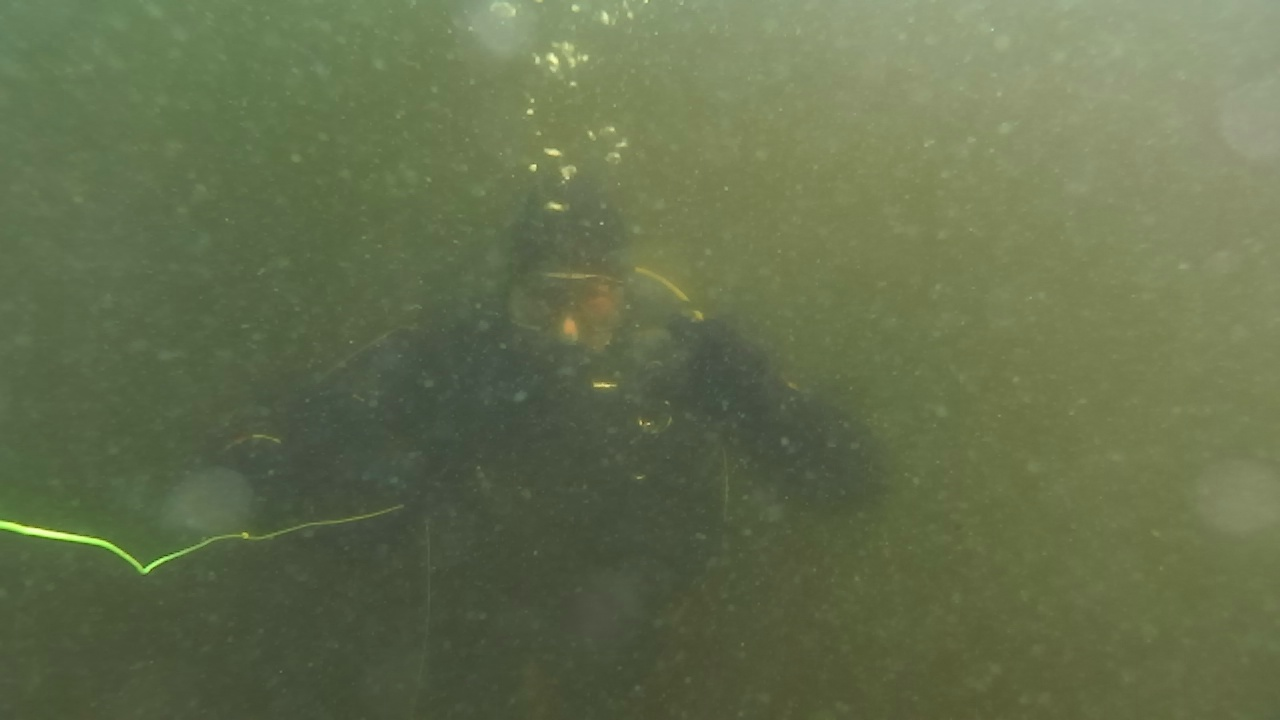Diver: (158, 150, 914, 686)
Head: (498, 182, 646, 384)
